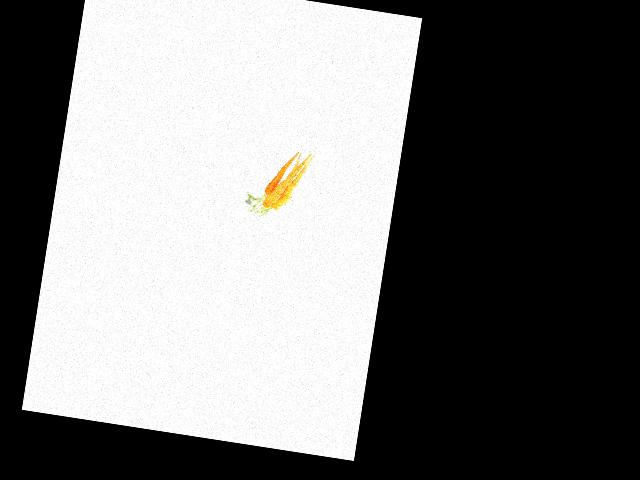carrot: (270, 149, 315, 217)
